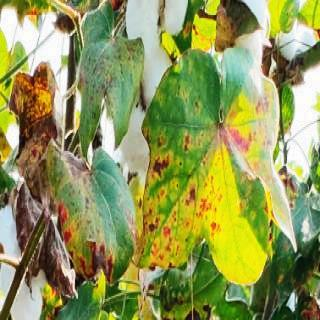blight: (138, 39, 303, 286), (42, 134, 144, 288), (78, 12, 143, 152), (9, 55, 62, 173)
